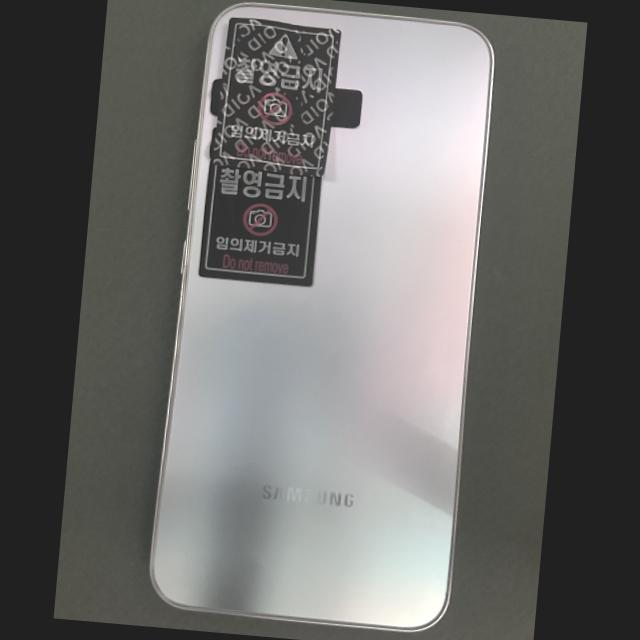phone: (150, 3, 494, 630)
sticker: (212, 15, 344, 178), (197, 129, 321, 288), (210, 80, 221, 115)
